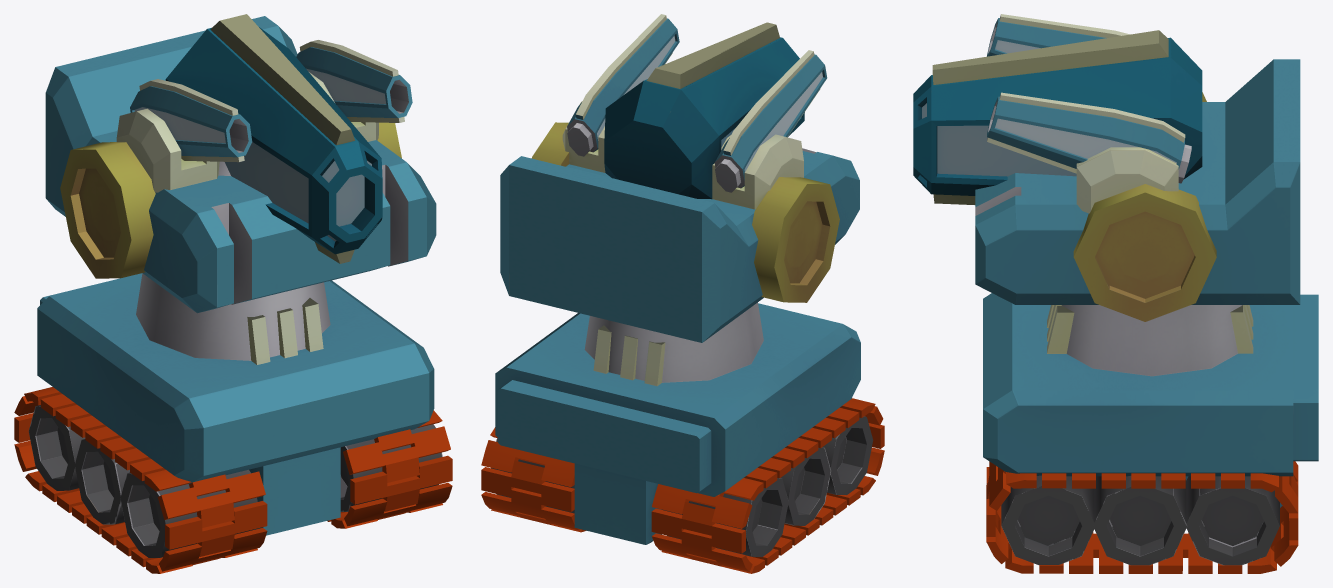
File: player_idle_1_upgrade4.obj
The picture shows the model from 3 angles, left to right: view 1: azimuth 30°, elevation 25°; view 2: azimuth 150°, elevation 25°; view 3: azimuth 270°, elevation 25°; orthographic projection. The views are drawn at different scales.
Visible parts, largest first — view 1: Object004, Box038, Object012, Object011, Box042; view 2: Object004, Box038, Object012, Object011, Box042; view 3: Object004, Object011, Object012, Box042.
Part boxes in pixels (left/top/right/bottom): Object004: left=37, top=14, right=436, bottom=535; Box038: left=14, top=387, right=267, bottom=573; Object012: left=130, top=40, right=412, bottom=162; Object011: left=28, top=405, right=442, bottom=557; Box042: left=327, top=410, right=452, bottom=528; Object004: left=495, top=22, right=860, bottom=544; Box038: left=651, top=398, right=884, bottom=573; Object012: left=567, top=14, right=827, bottom=192; Object011: left=491, top=416, right=873, bottom=556; Box042: left=481, top=427, right=586, bottom=532; Object004: left=913, top=30, right=1318, bottom=507; Object011: left=1001, top=475, right=1279, bottom=565; Object012: left=987, top=14, right=1191, bottom=183; Box042: left=986, top=461, right=1298, bottom=573.
Size of the model in its own units: 110 by 175 by 136.
4 materials, 2 textured.
